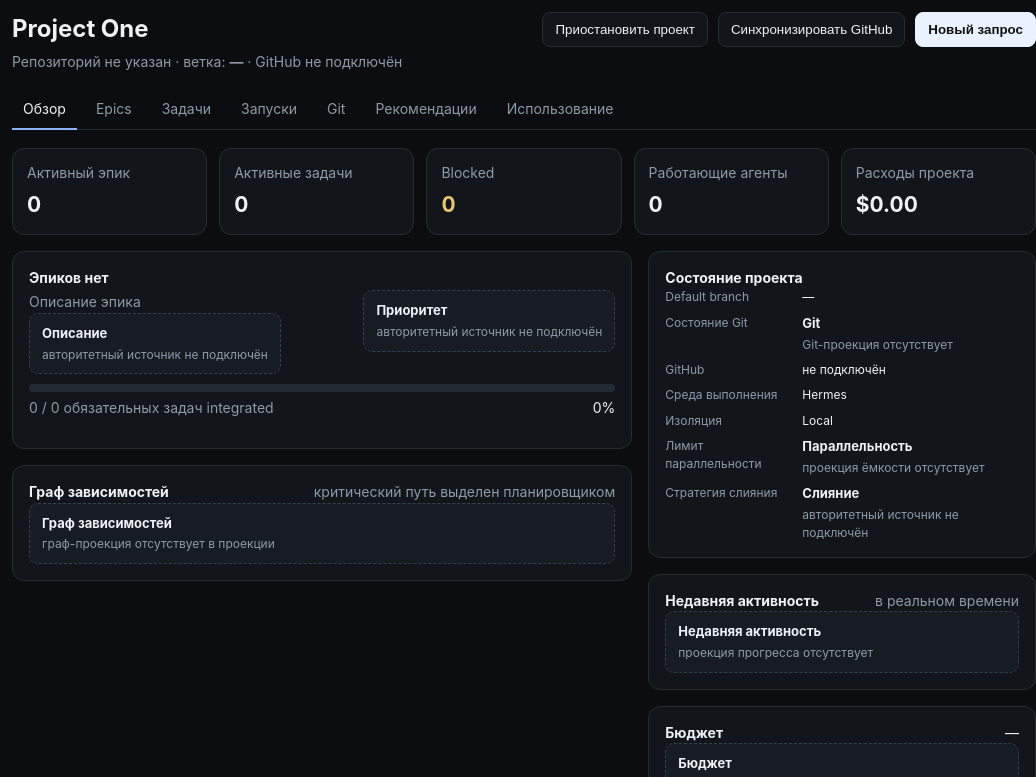
Test: Primary workflows — реальные действия экранов через typed API › Project: недоступность GitHub-синхронизации показывается ошибкой
Click the button "Синхронизировать GitHub" at (812, 30), box [718,12,905,47]
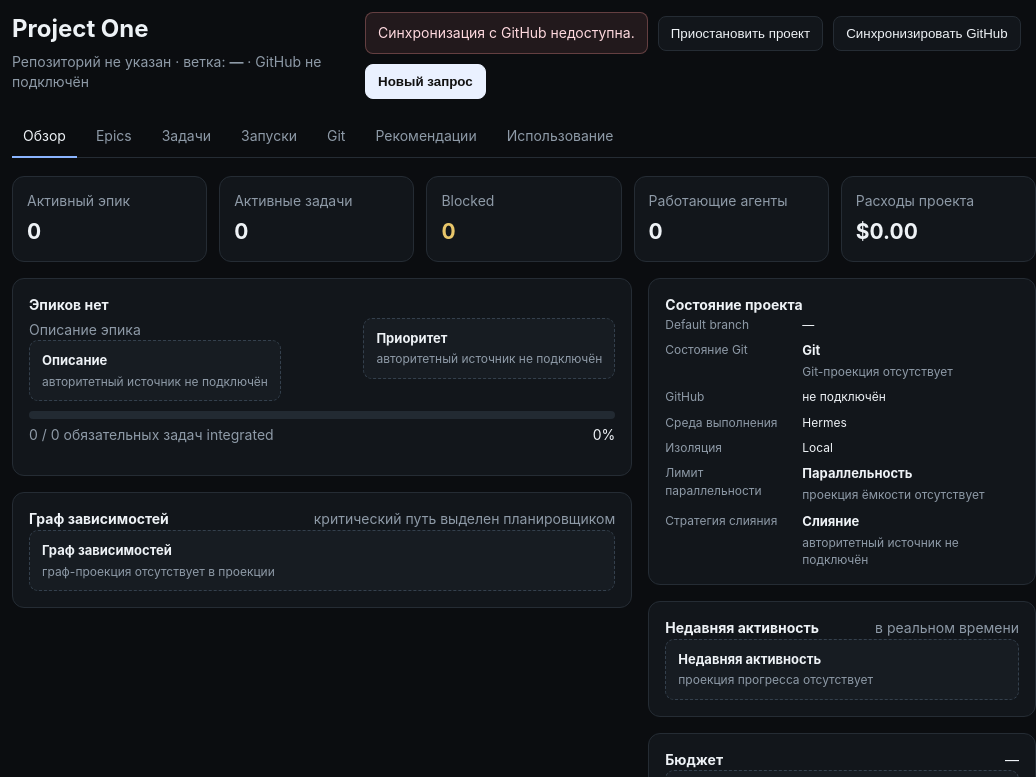
Expected: the text "Синхронизация с GitHub недоступна." is shown, [365,12,648,54]
